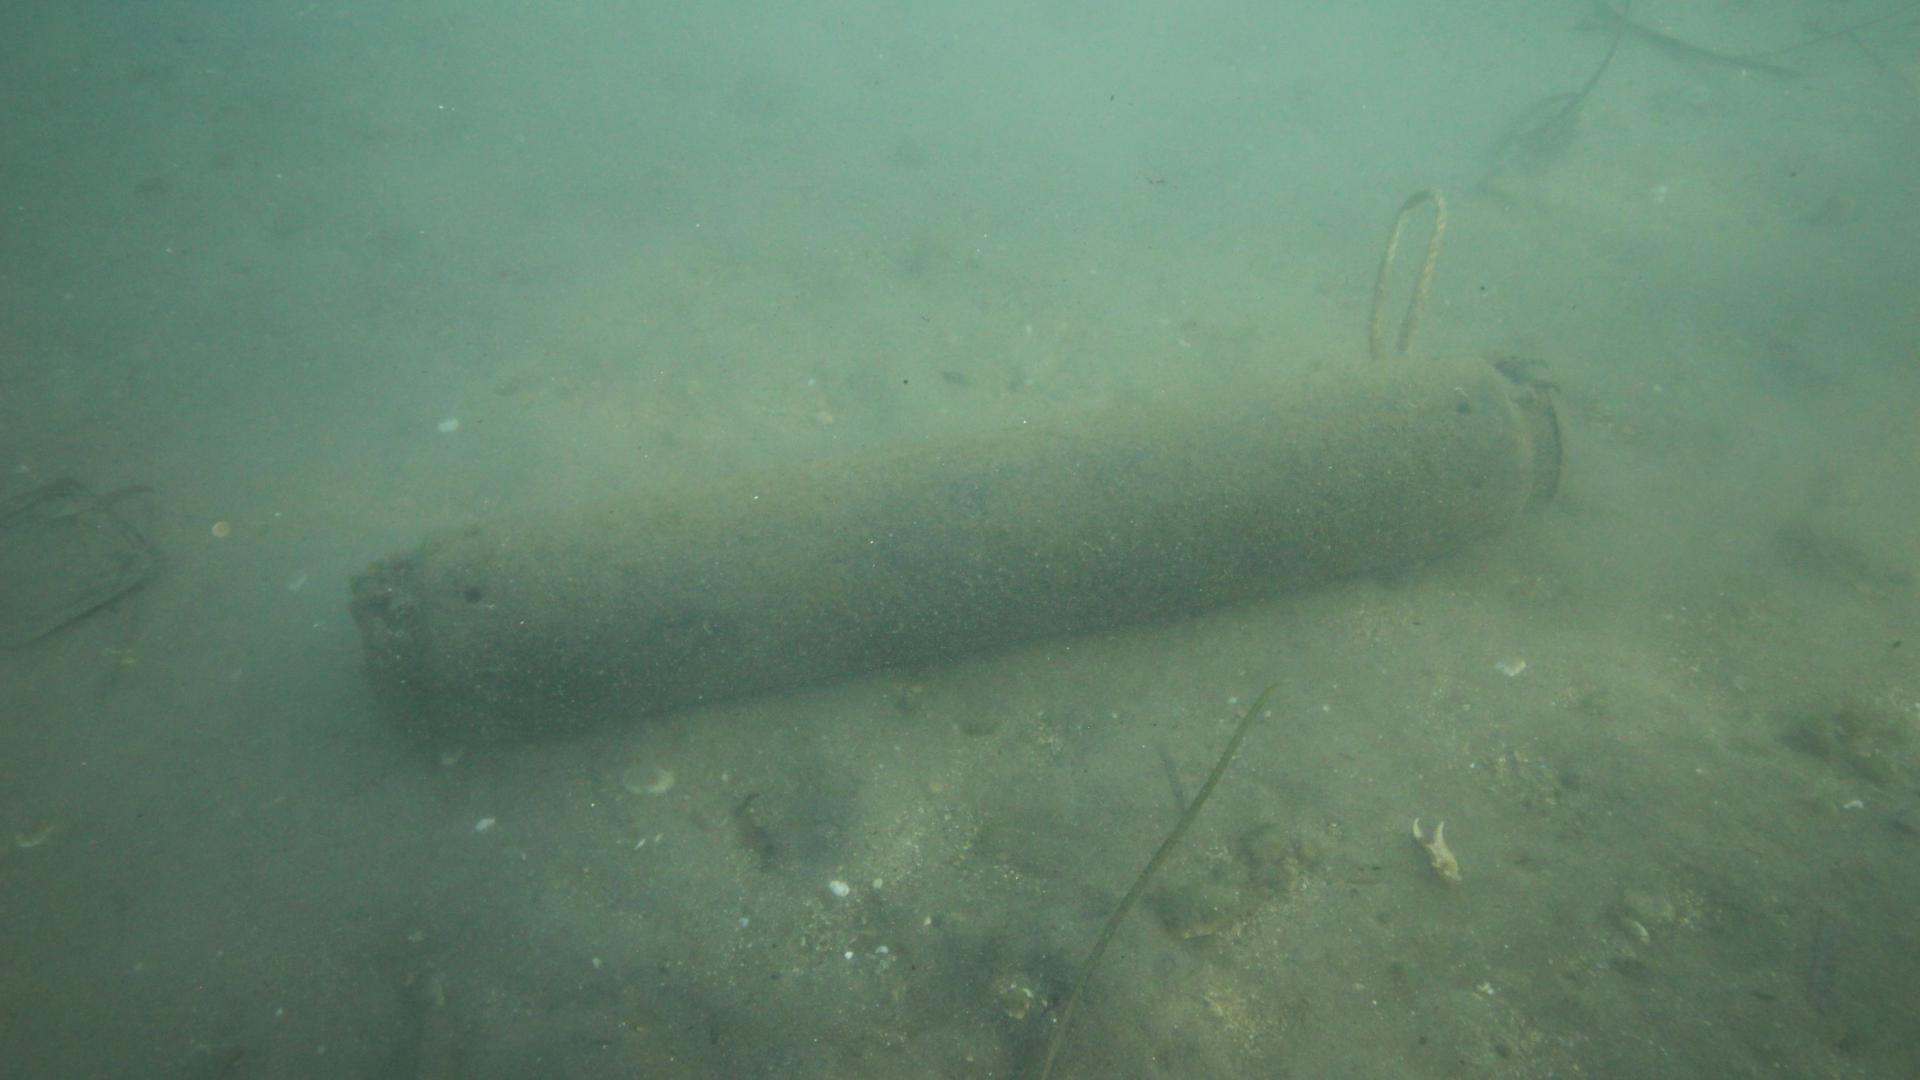eel fish trap: (347, 353, 1571, 750)
rope: (1367, 183, 1449, 353)
